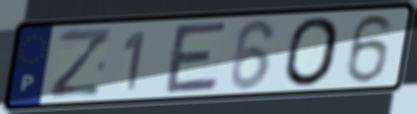1: (121, 29, 147, 92)
6: (227, 17, 281, 92), (343, 11, 397, 86)
E: (162, 19, 231, 97)
O: (283, 14, 343, 89)
Z: (45, 26, 114, 102)
